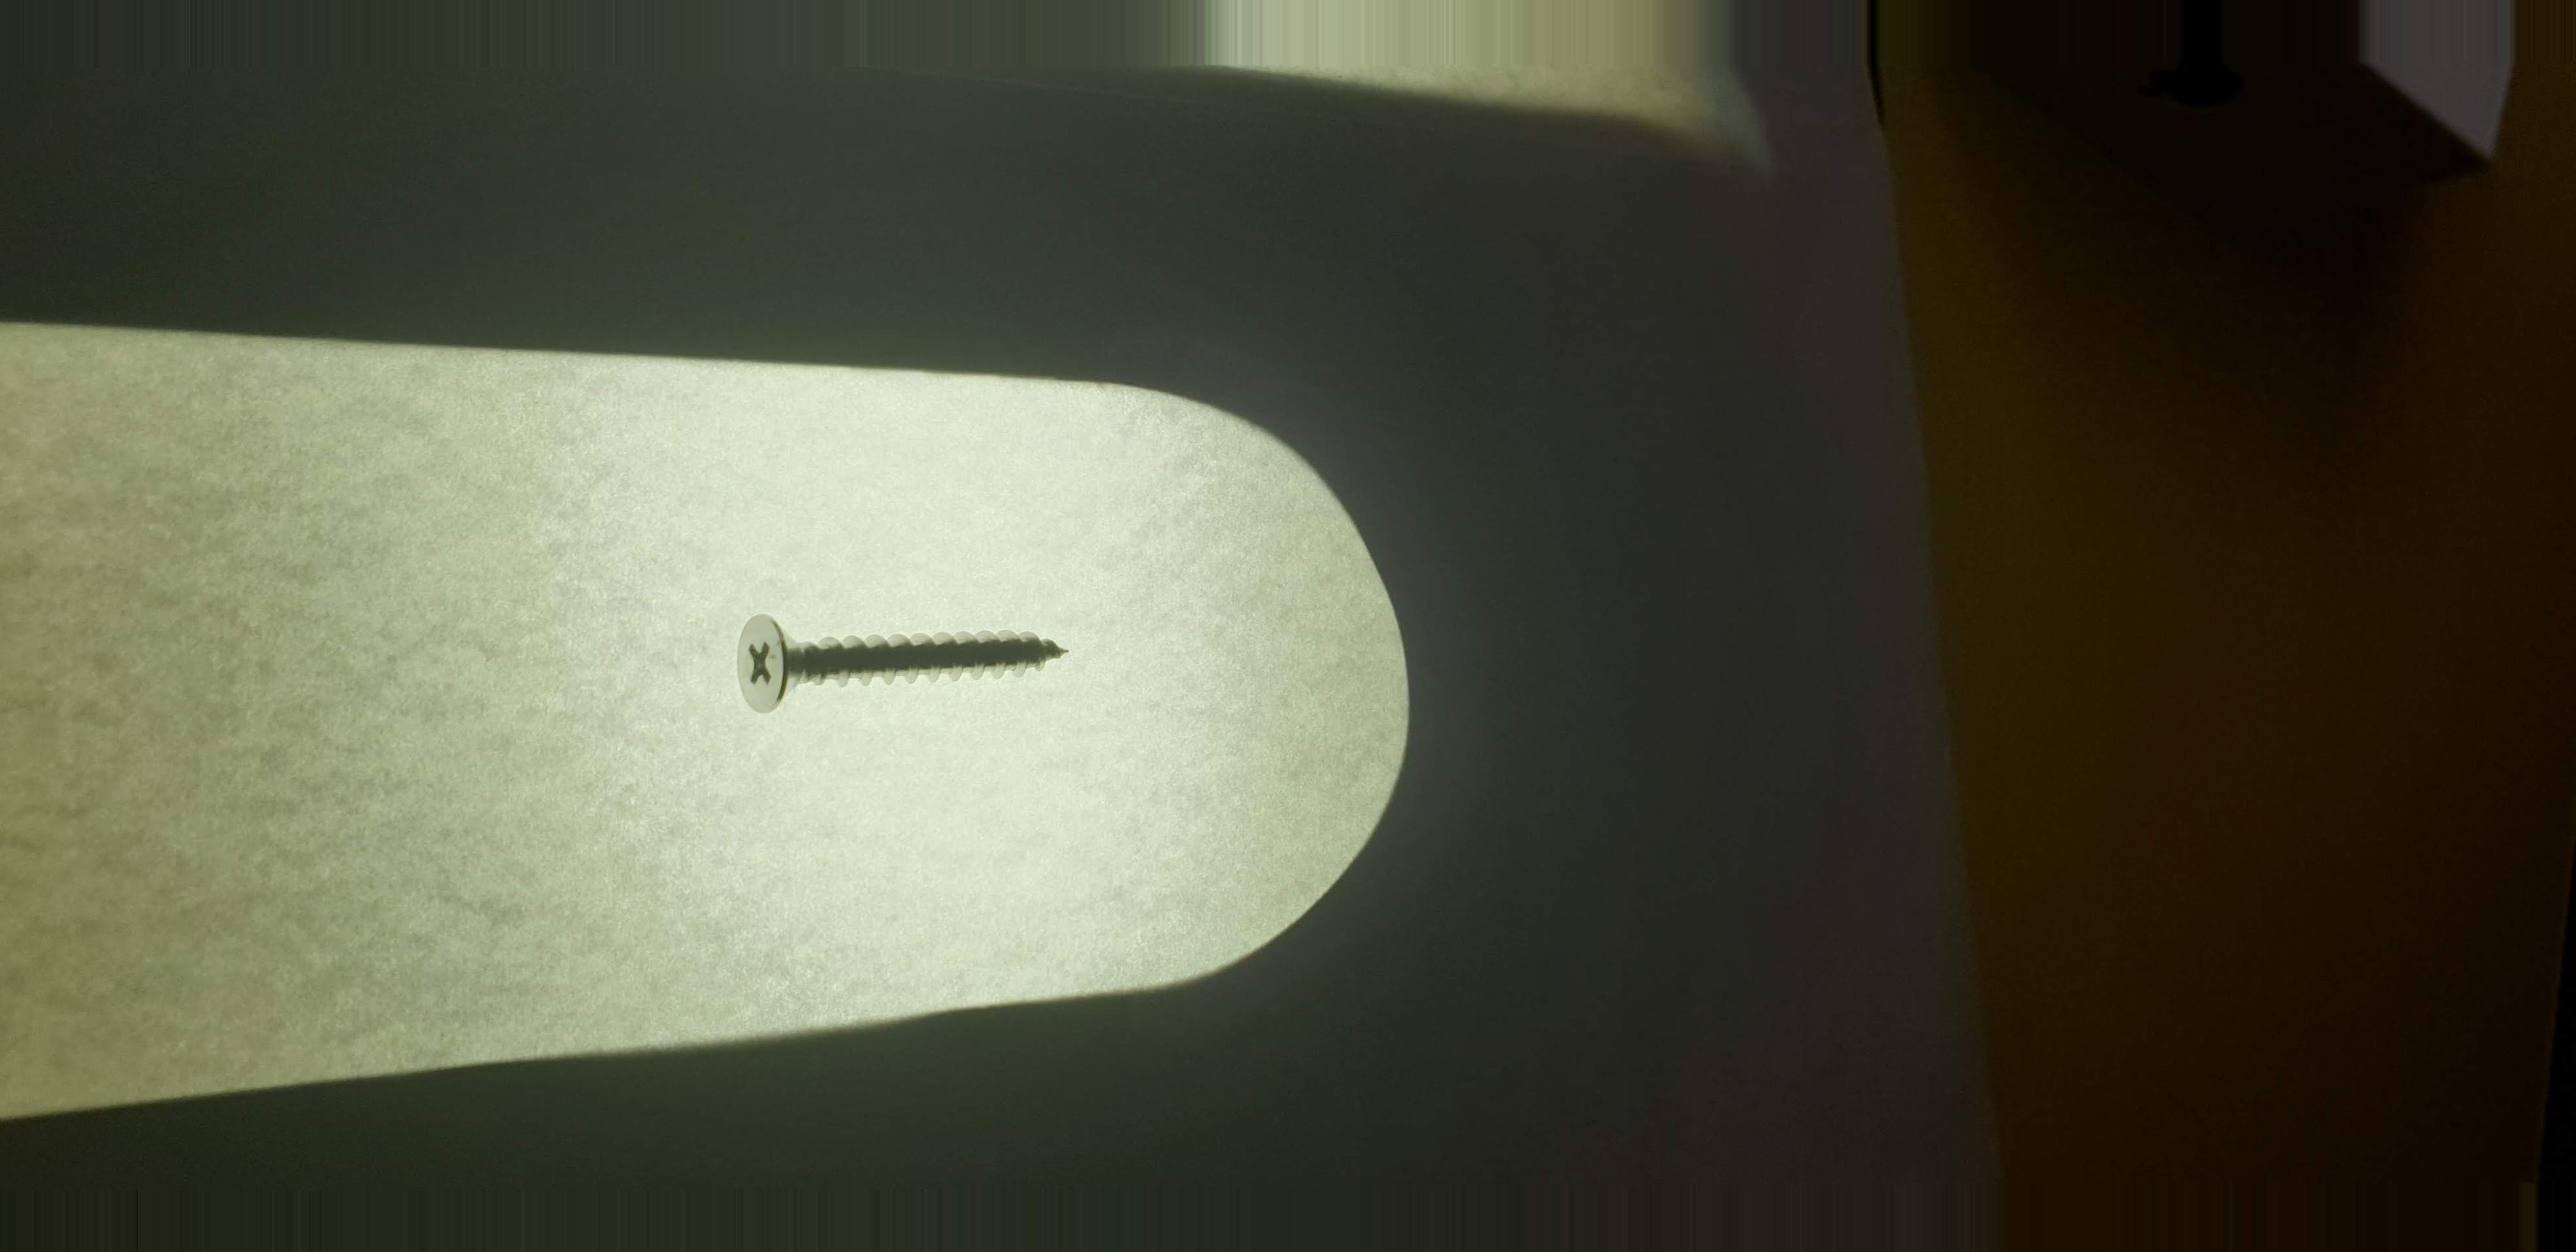S004: (690, 585, 1147, 733)
